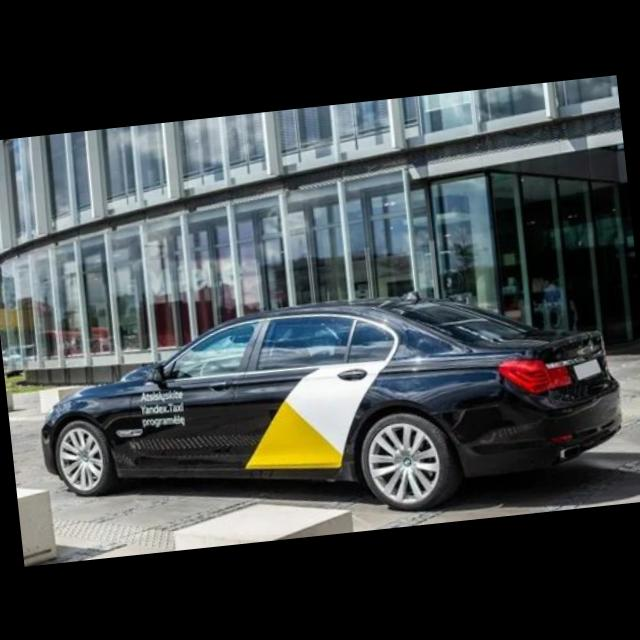taxi: (28, 268, 630, 549)
